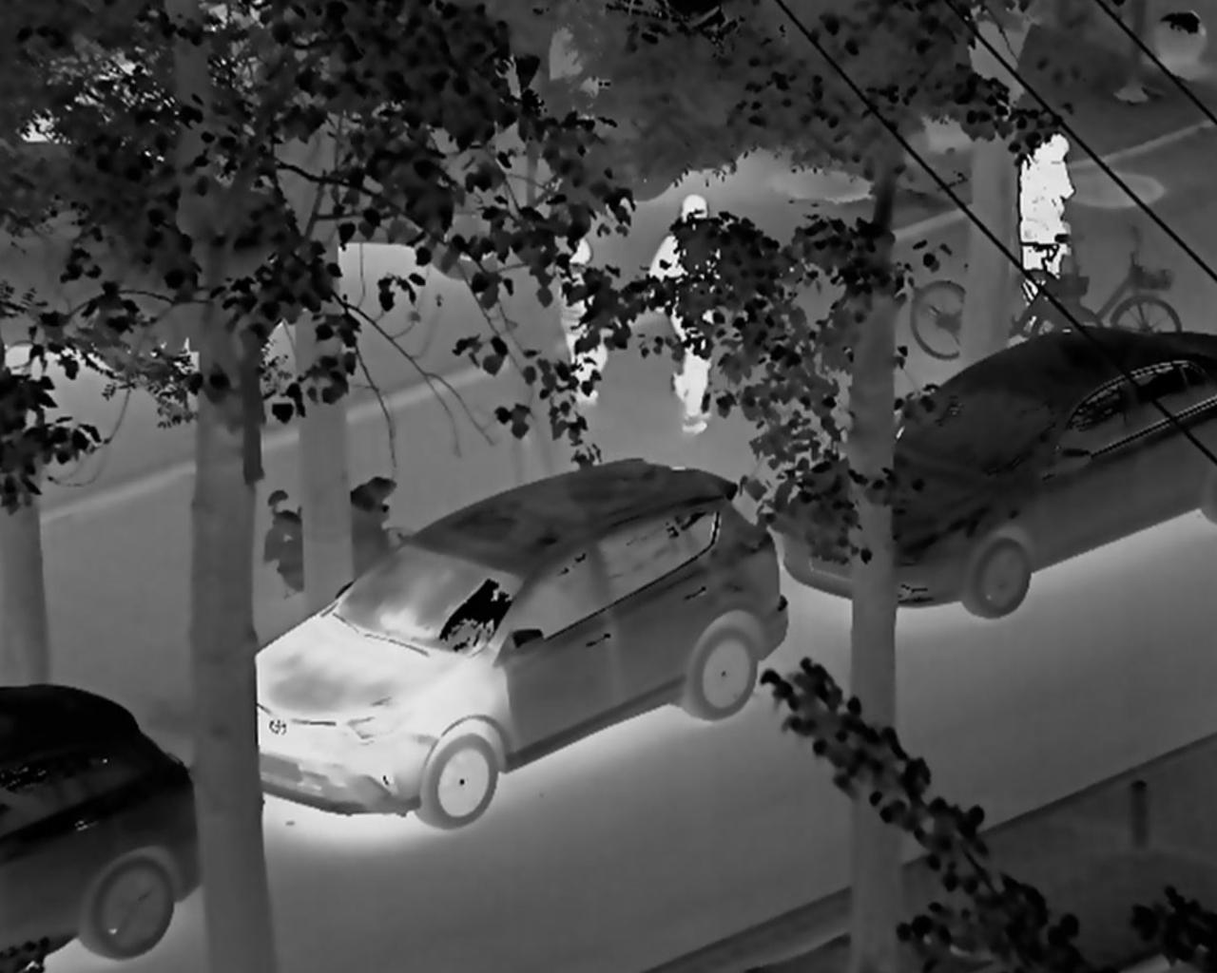person: (652, 189, 730, 441), (548, 227, 616, 428), (1015, 130, 1080, 290)
